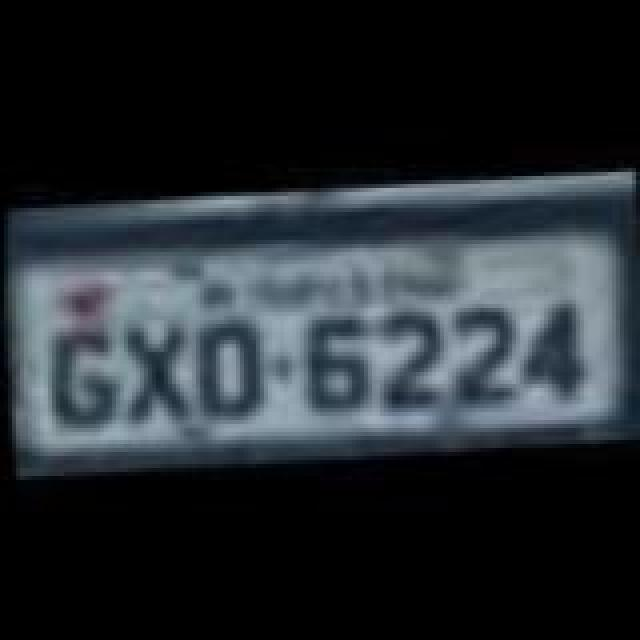2: (368, 296, 448, 412), (442, 290, 522, 406)
4: (508, 286, 592, 402)
6: (296, 308, 376, 416)
G: (38, 312, 122, 432)
O: (184, 308, 264, 424)
X: (108, 312, 196, 428)
